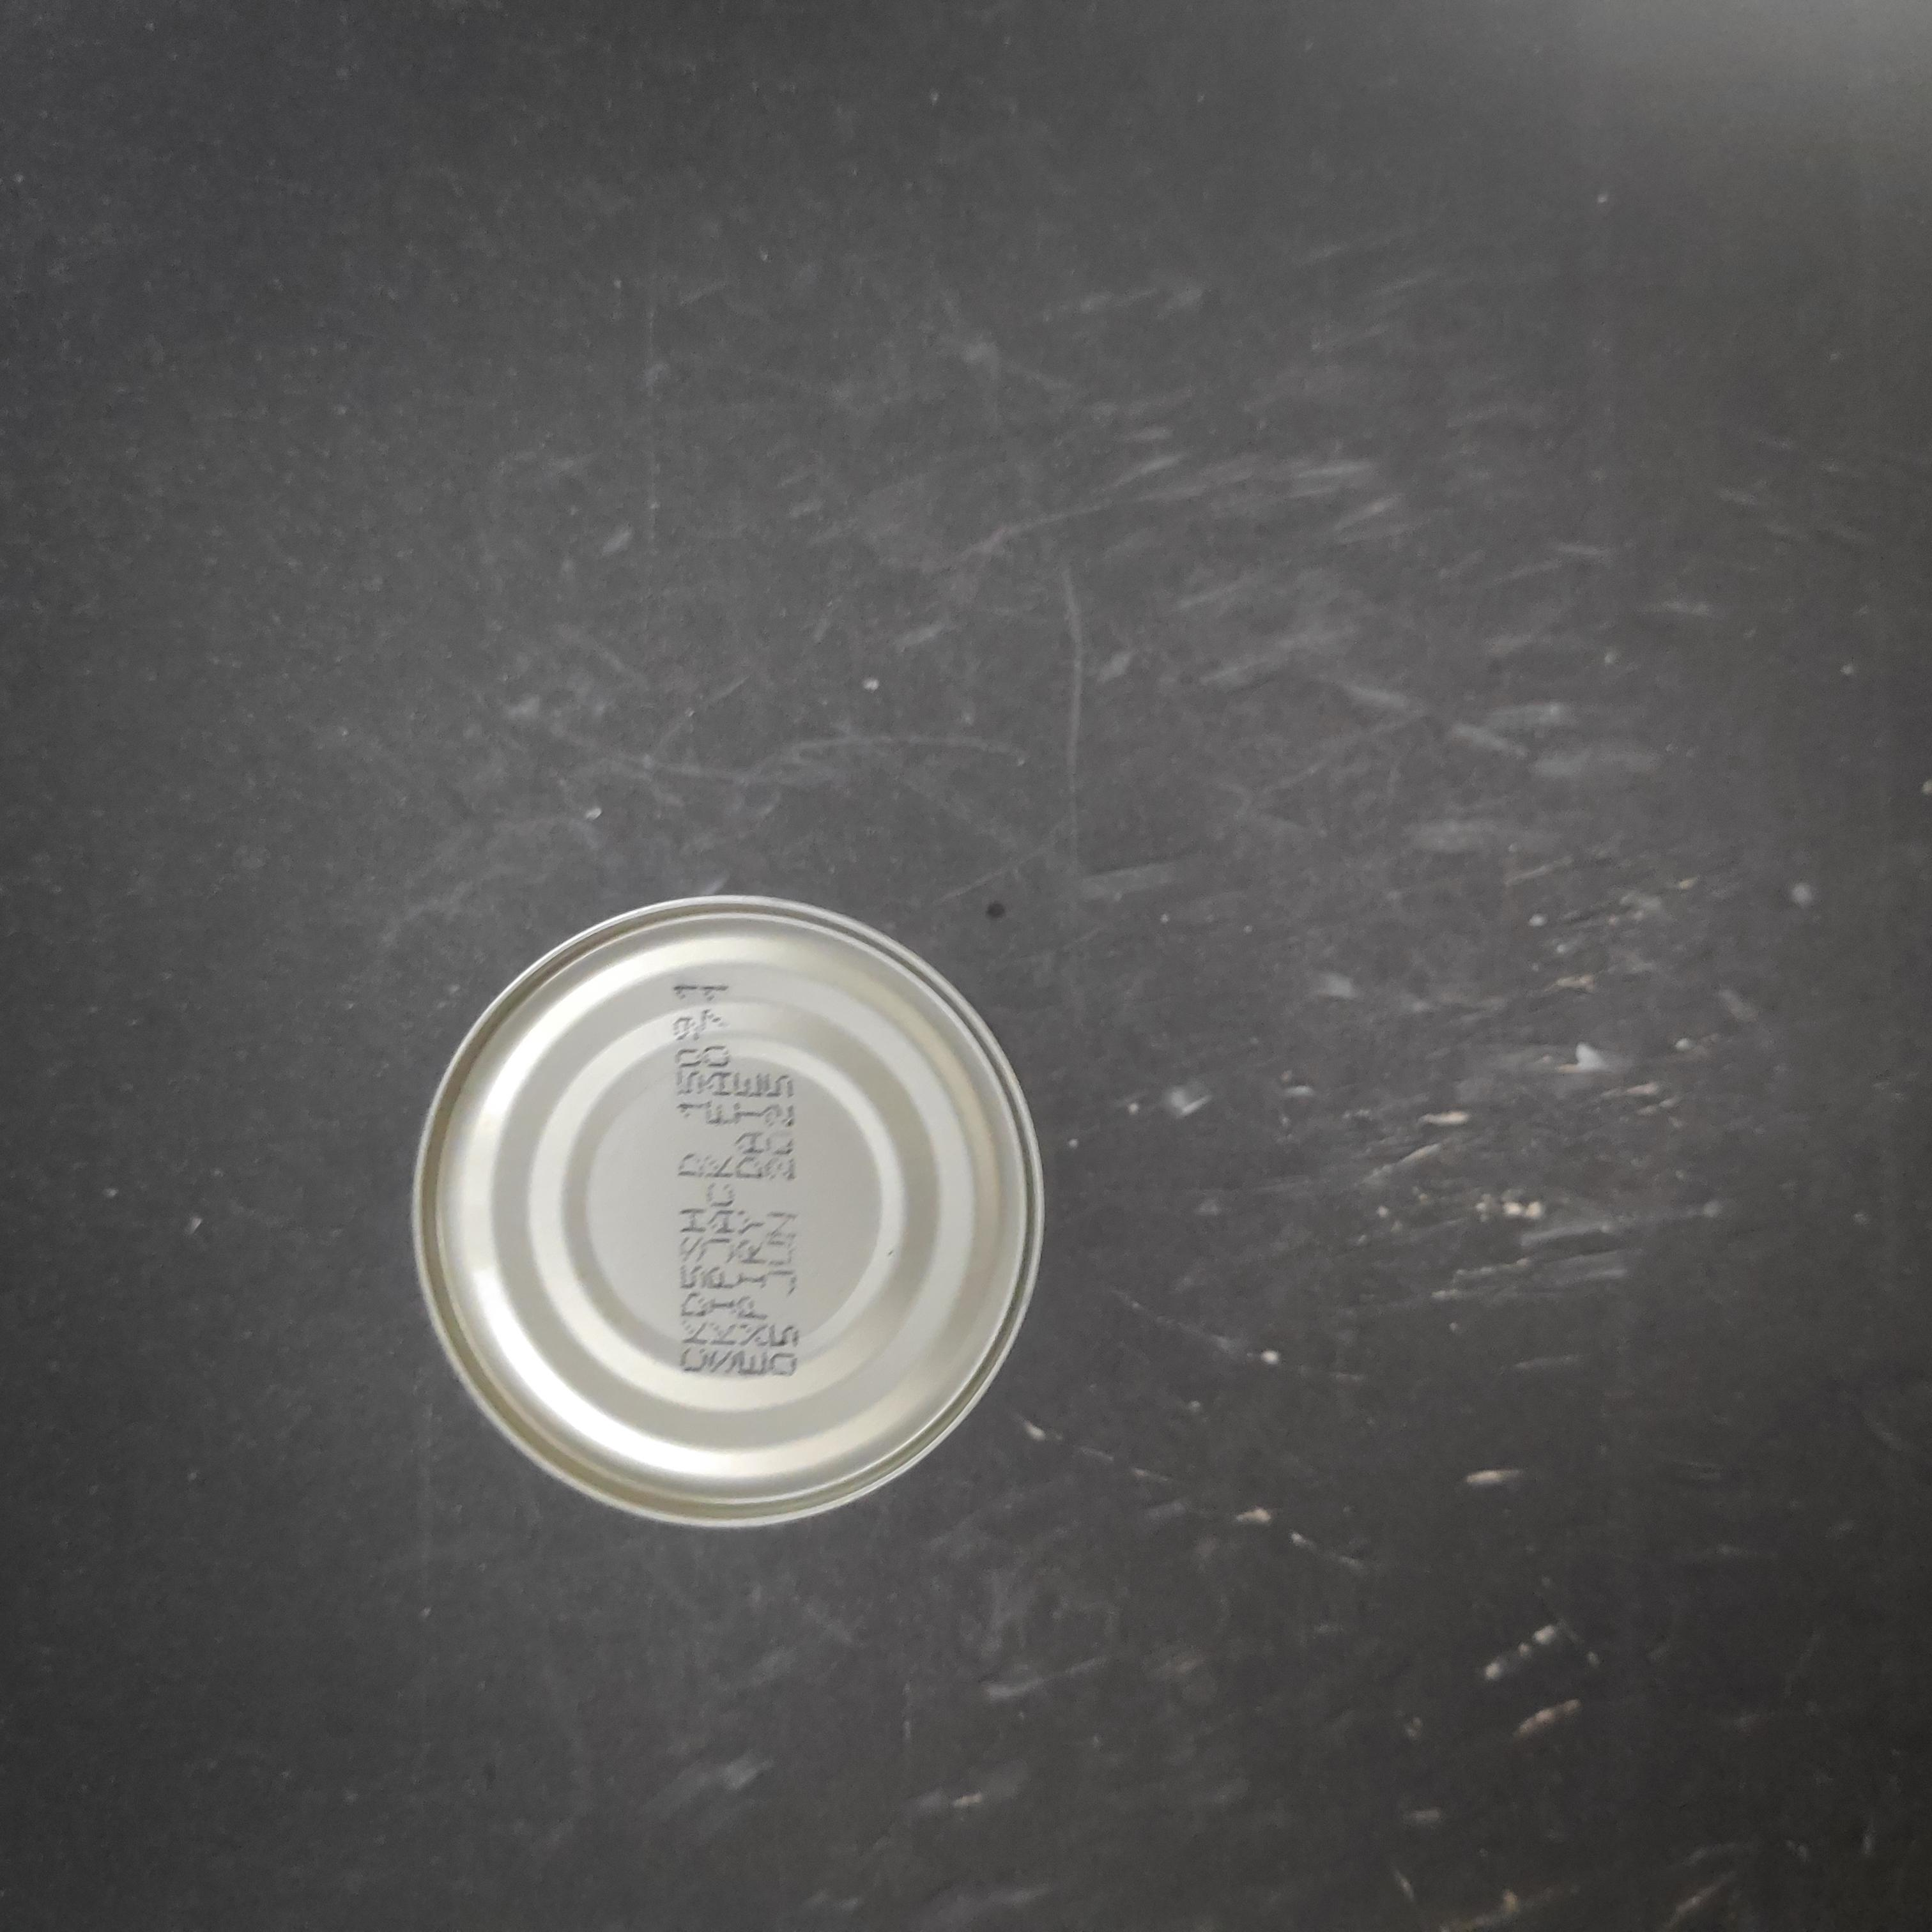No defect: (879, 391, 1529, 1047)
